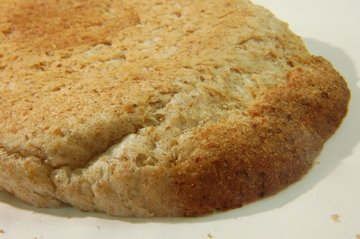slice of bread: (1, 2, 312, 203)
